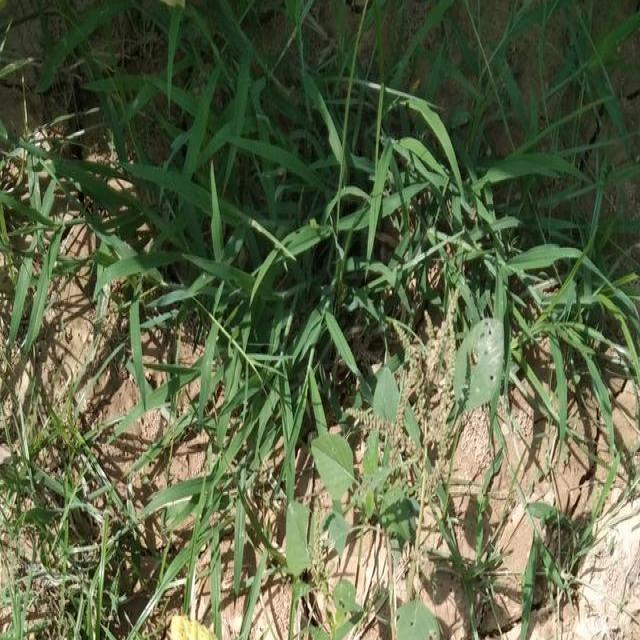weed: (60, 32, 640, 348), (294, 398, 456, 597), (22, 429, 129, 640)
